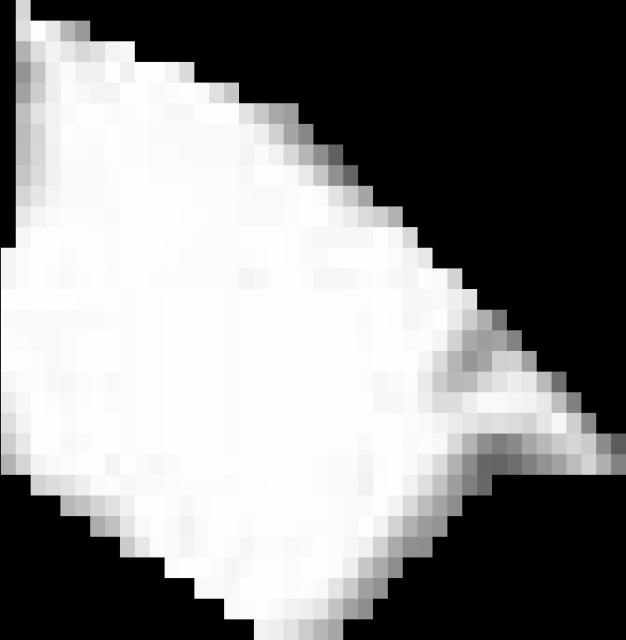tumor_good_chance: (1, 0, 626, 640)
